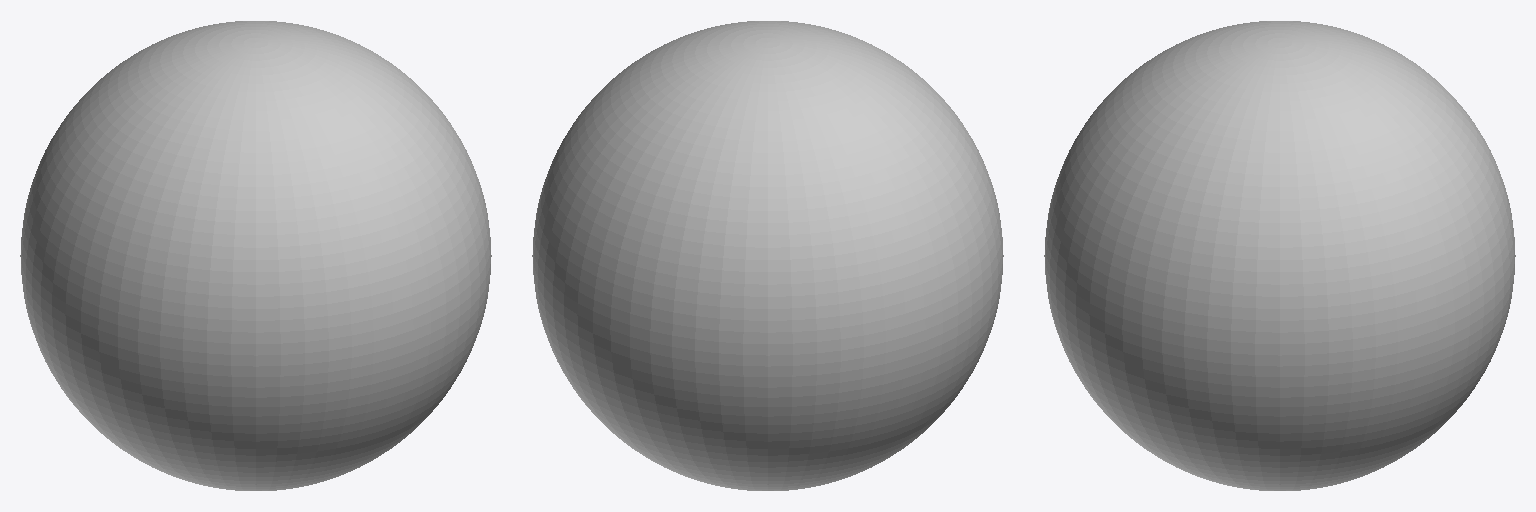
File: earth.obj
3 views of the same model, side by side, from view 1: azimuth 30°, elevation 25°; view 2: azimuth 150°, elevation 25°; view 3: azimuth 270°, elevation 25° (orthographic).
Parts seen in each view (by area): view 1: Sphere; view 2: Sphere; view 3: Sphere.
Part boxes in pixels (left/top/right/bottom): Sphere: left=20, top=21, right=491, bottom=490; Sphere: left=532, top=21, right=1003, bottom=490; Sphere: left=1044, top=21, right=1515, bottom=490.
Bounding box in the file's own units: 2 × 2 × 2.